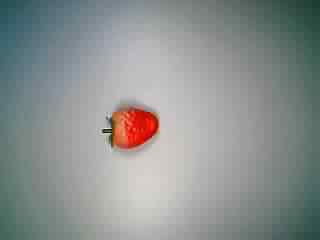strawberry: (92, 94, 166, 158)
